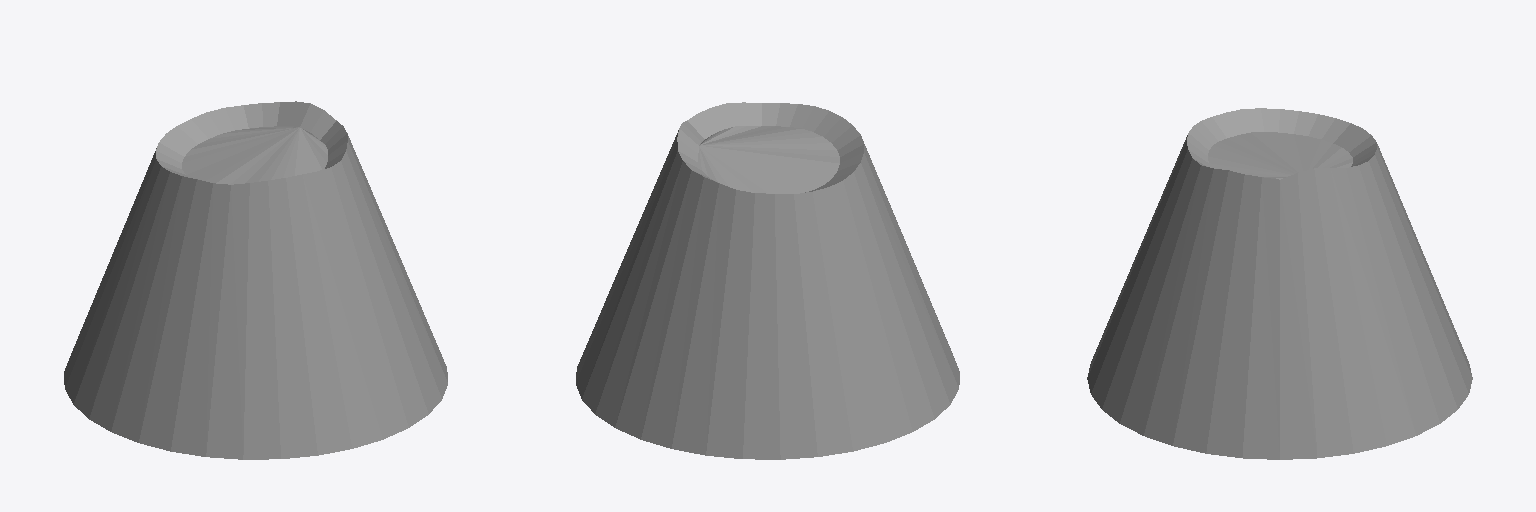
The model's file is volcano.obj.
3 views of the same model, side by side, from view 1: azimuth 30°, elevation 25°; view 2: azimuth 150°, elevation 25°; view 3: azimuth 270°, elevation 25° (orthographic).
Visible parts, largest first — view 1: Cone; view 2: Cone; view 3: Cone.
Part boxes in pixels (x1,y1,x2,y2): Cone: (64, 101, 447, 459); Cone: (576, 102, 959, 459); Cone: (1087, 108, 1472, 459).
Size of the model in its own units: 6.57 by 4.6 by 6.57.